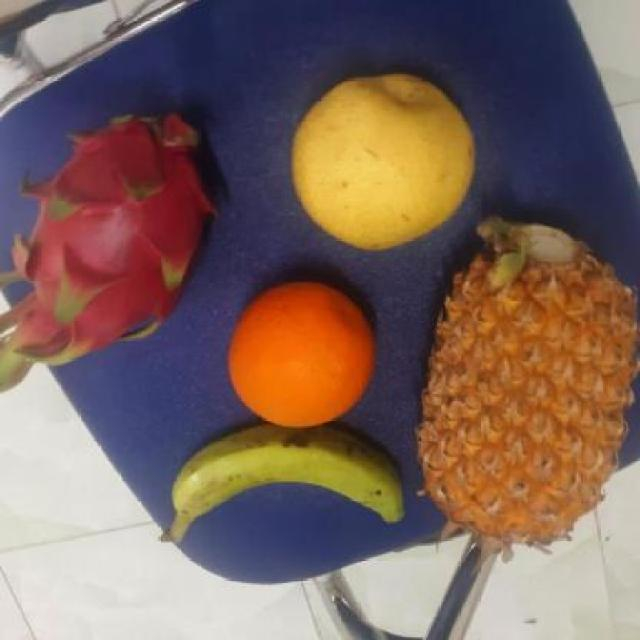banana: (176, 424, 421, 530)
dragon fruit: (2, 106, 236, 352)
guava: (296, 72, 486, 248)
oren: (225, 273, 384, 433)
pineapple: (422, 228, 640, 550)
